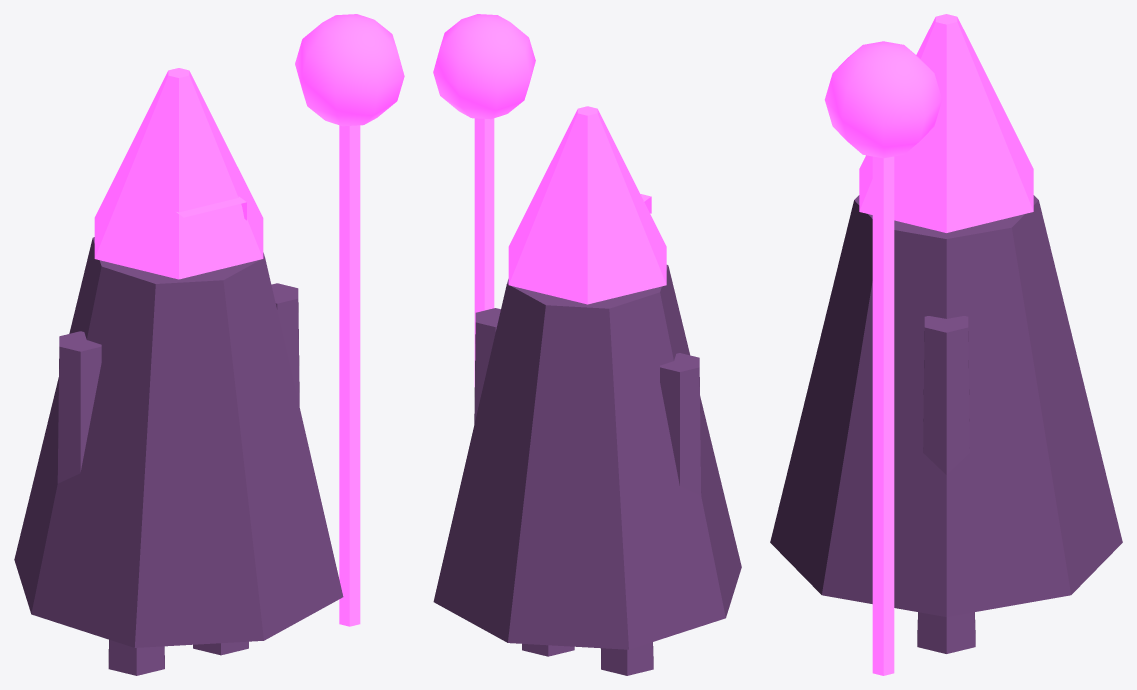
The model's file is enemy_dark_mage.glb.
The picture shows the model from 3 angles, left to right: view 1: azimuth 30°, elevation 25°; view 2: azimuth 150°, elevation 25°; view 3: azimuth 270°, elevation 25°; orthographic projection. The views are drawn at different scales.
Parts seen in each view (by area): view 1: Torso, Head, Weapon, LeftArm, RightArm, LeftLeg; view 2: Torso, Head, Weapon, LeftArm, RightArm, LeftLeg, RightLeg; view 3: Torso, Weapon, Head, RightArm, RightLeg.
Boxes of the visible parts, x1,y1,x2,y2 form: Torso: (14,237,343,647); Head: (94,68,263,279); Weapon: (295,14,404,626); LeftArm: (57,331,101,483); RightArm: (271,283,299,406); LeftLeg: (108,639,164,675); Torso: (433,265,741,649); Head: (508,106,666,304); Weapon: (433,14,535,386); LeftArm: (660,353,701,495); RightArm: (474,308,500,423); LeftLeg: (601,642,653,675); RightLeg: (522,644,574,656); Torso: (770,195,1122,616); Weapon: (824,41,942,675); Head: (859,14,1033,232); RightArm: (923,316,969,474); RightLeg: (917,612,975,653).
Size of the model in its own units: 0.96 by 1.69 by 0.84.
